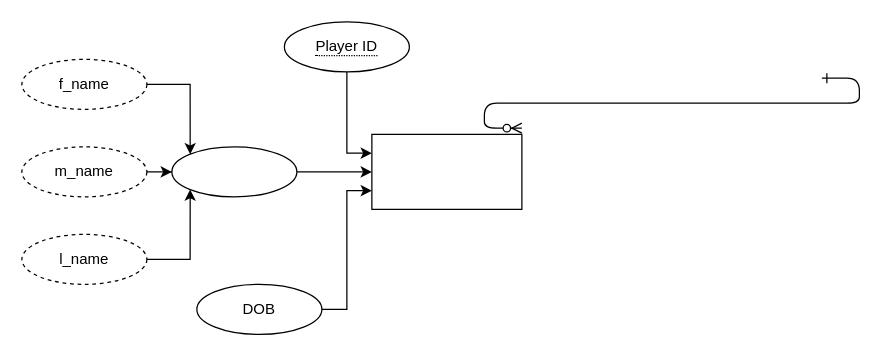
Image size: 893x356. Some labels were removed from this diagram. Each missing label, with the centre of its shape:
"Athlete" belongs at point 446,171.
"Name" belongs at point 234,171.
